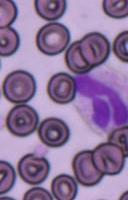N: (73, 68, 128, 134)
